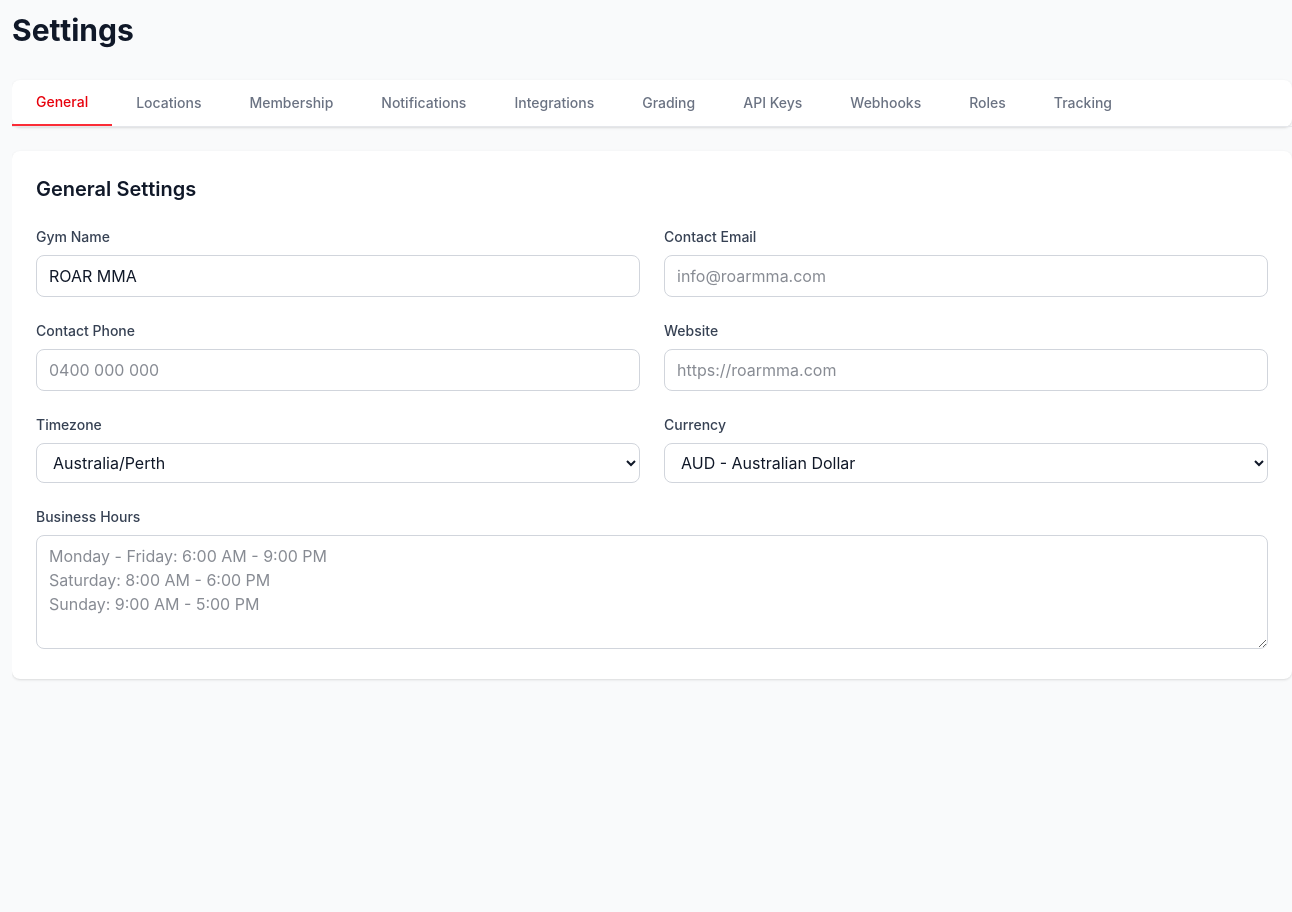
Settings Page › switches to Notifications tab and shows toggle switches
Step 1. Click the button "Notifications" → (424, 103), box [357,80,490,126]
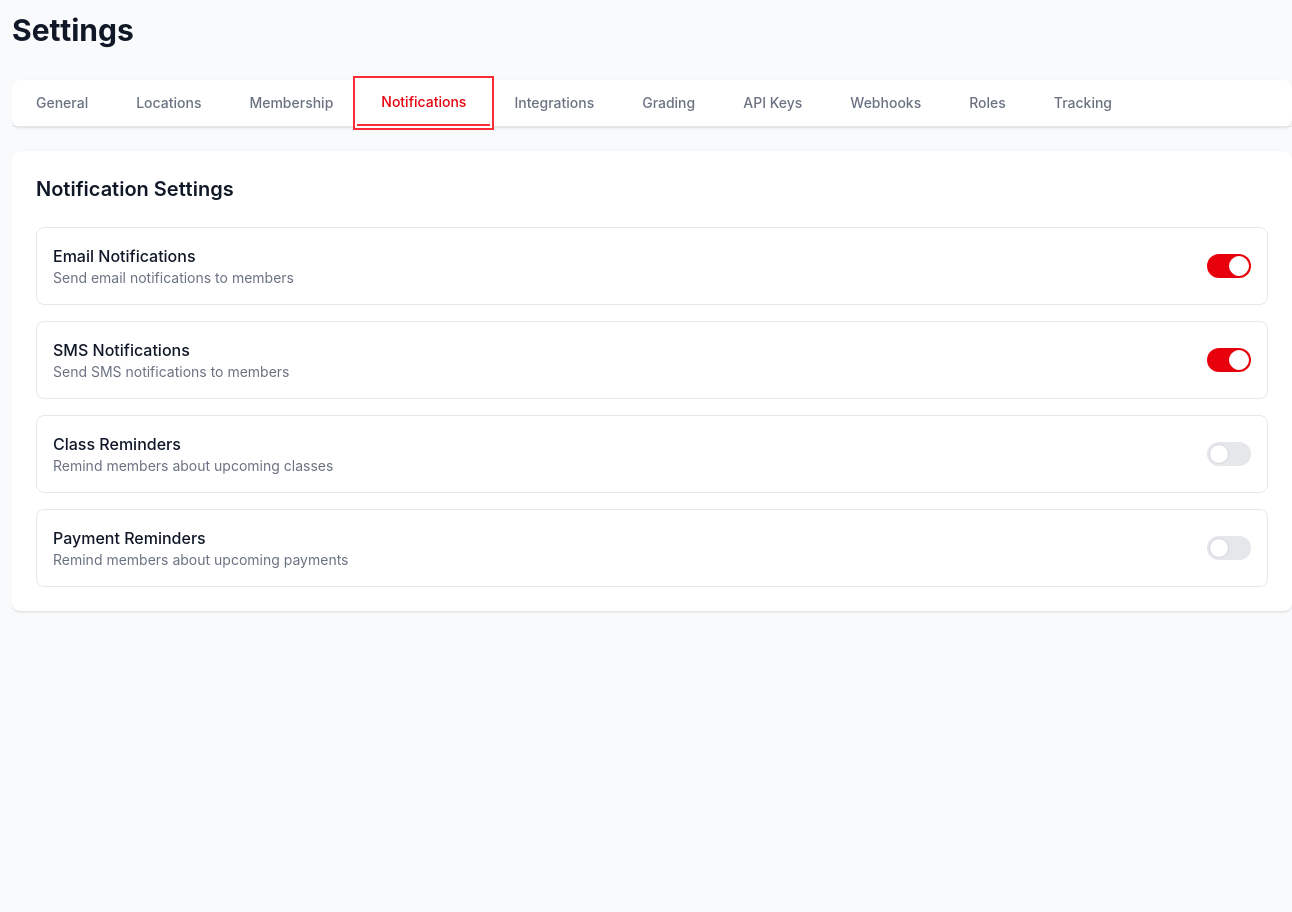
Now the heading "Email Notifications" is shown, box [53,246,196,266]
Now the heading "SMS Notifications" is shown, box [53,340,190,360]
